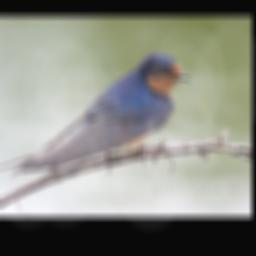Swallow: (0, 51, 192, 176)
